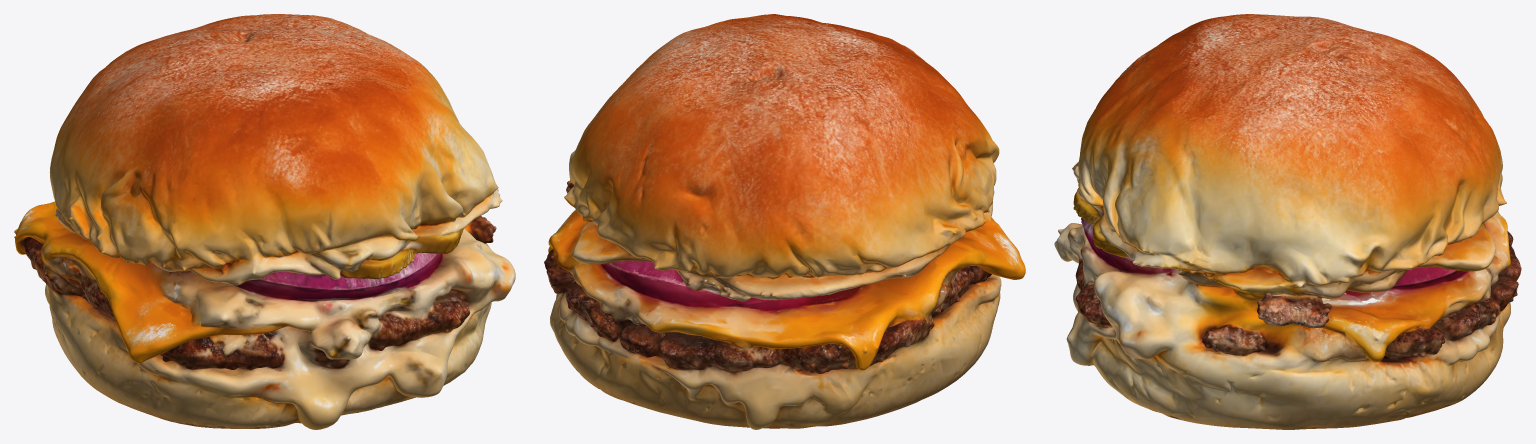
Rendered from hamburger-v1.glb.
3 renders of one model, left to right at view 1: azimuth 30°, elevation 25°; view 2: azimuth 150°, elevation 25°; view 3: azimuth 270°, elevation 25°, orthographic. The views are drawn at different scales.
Visible parts, largest first — view 1: tripo_node_8f36e6b8-2a88-42c7-9dfe-70038900a76f; view 2: tripo_node_8f36e6b8-2a88-42c7-9dfe-70038900a76f; view 3: tripo_node_8f36e6b8-2a88-42c7-9dfe-70038900a76f.
Part boxes in pixels (<box>): tripo_node_8f36e6b8-2a88-42c7-9dfe-70038900a76f: <box>14,14,515,429</box>; tripo_node_8f36e6b8-2a88-42c7-9dfe-70038900a76f: <box>544,14,1025,429</box>; tripo_node_8f36e6b8-2a88-42c7-9dfe-70038900a76f: <box>1054,14,1521,429</box>.
Bounding box in the file's own units: 0.9685 × 0.707 × 0.9801.
Materials: 1 (1 with a texture image).
